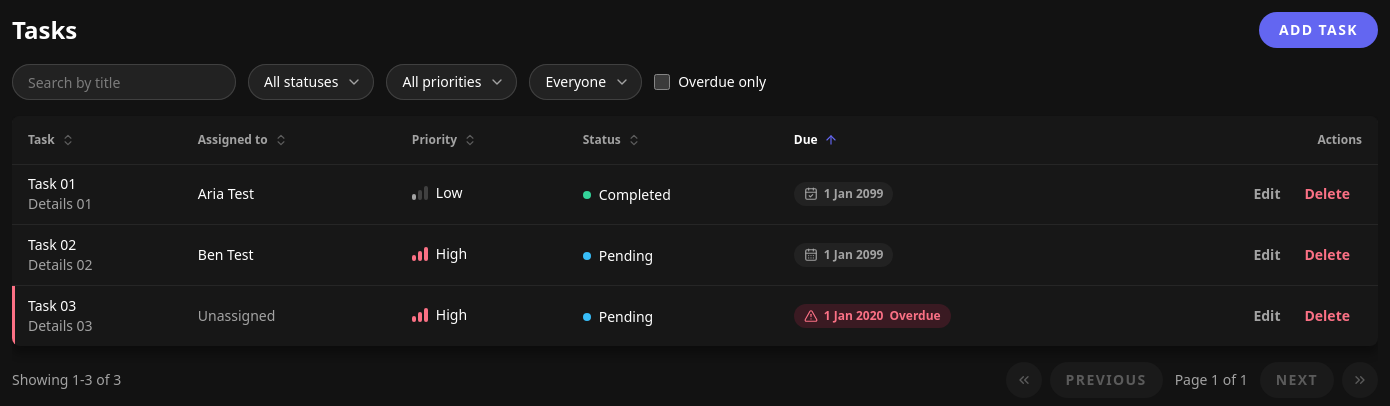
TasksPage: filters › offers a button that clears every filter at once, only while a filter is set
Expected: the text "Task 01" is shown, [28,174,76,193]
Expected: the button "Clear filters" is not shown
Type "task" into the search field named "Search tasks" at [124, 82], box [12,64,236,100]
Click the dropdown named "Filter by status" at [311, 82], box [248,64,374,100]
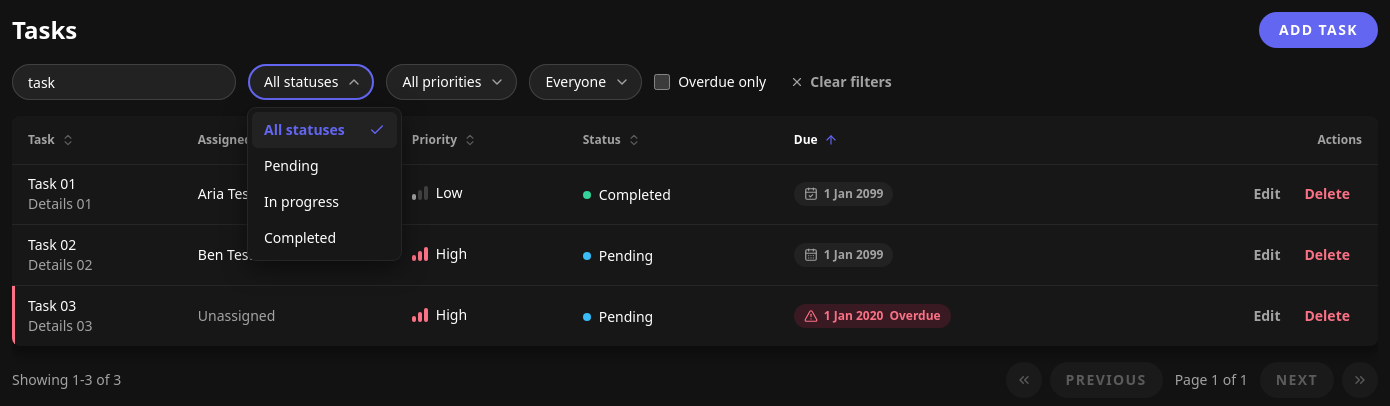
Click the option "Pending" at [291, 166], box [264,156,318,175]
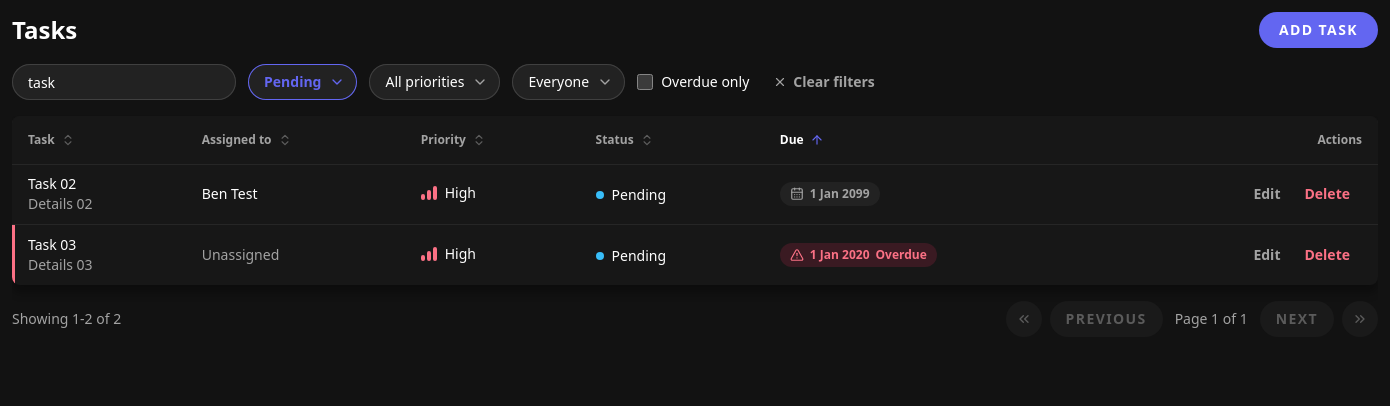
Click the dropdown named "Filter by priority" at [435, 82], box [370,64,500,100]
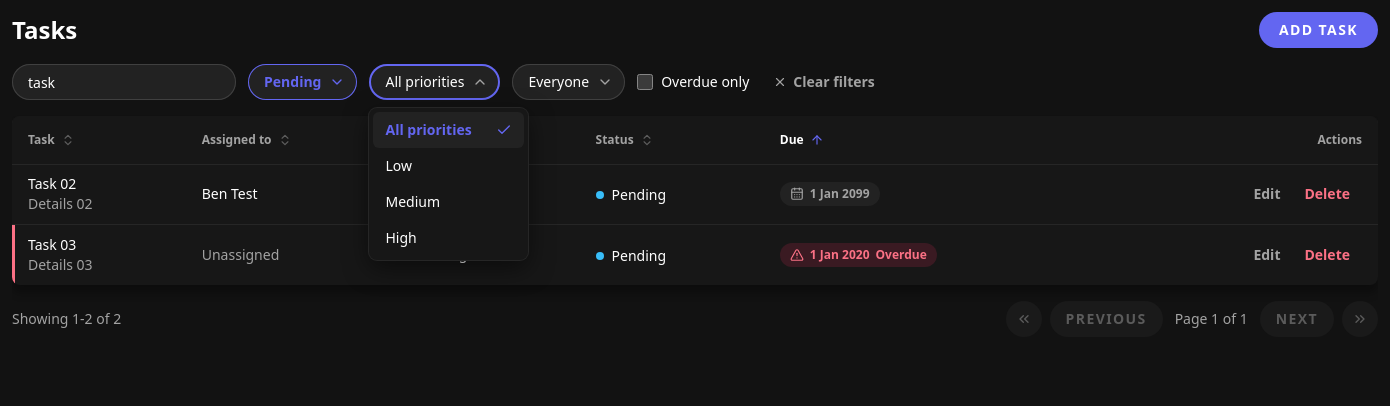
Click the option "High" at [401, 238], box [386,228,417,247]
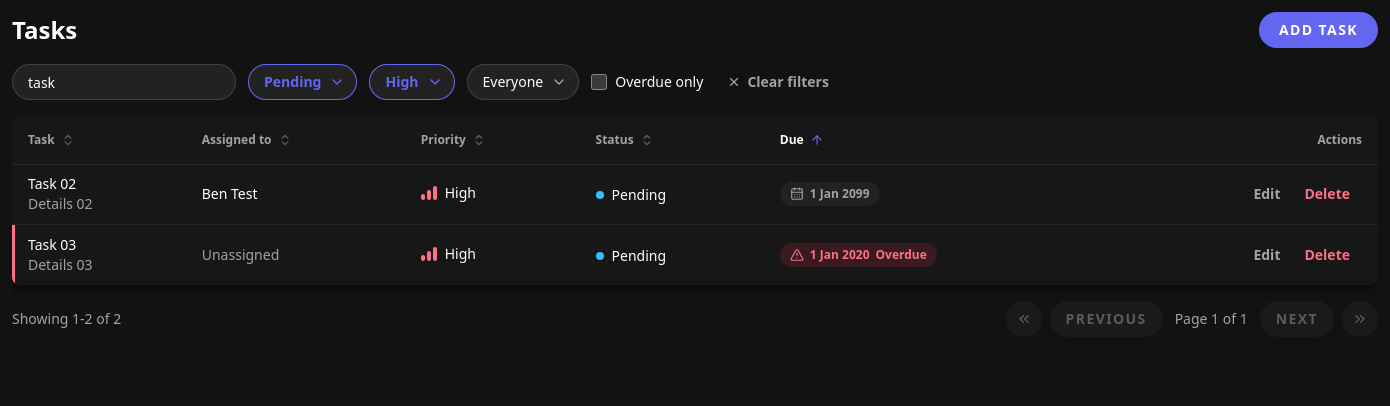
Click the checkbox labelled "Overdue only" at [599, 82], box [591,74,607,90]
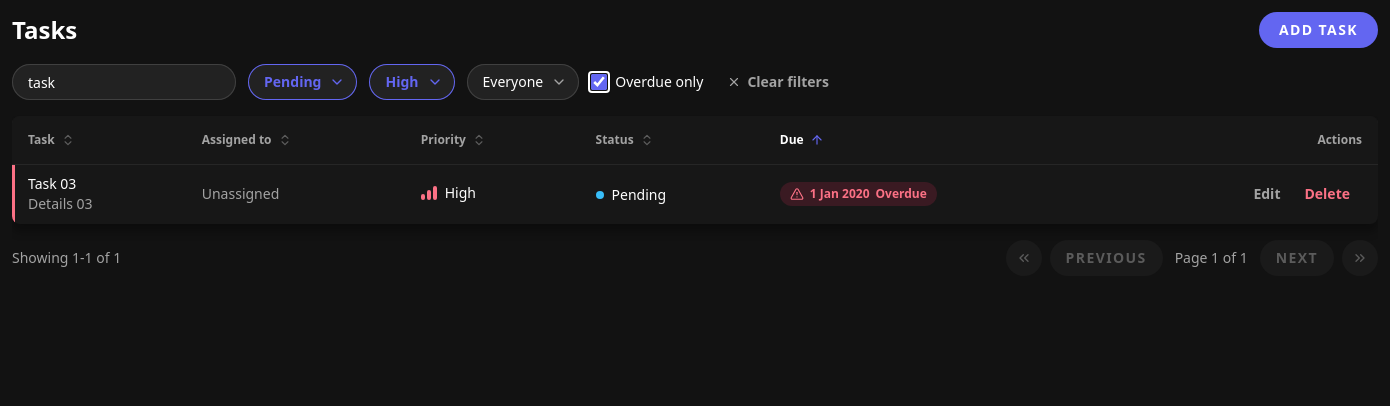
Click the button "Clear filters" at [778, 82], box [715,68,841,96]
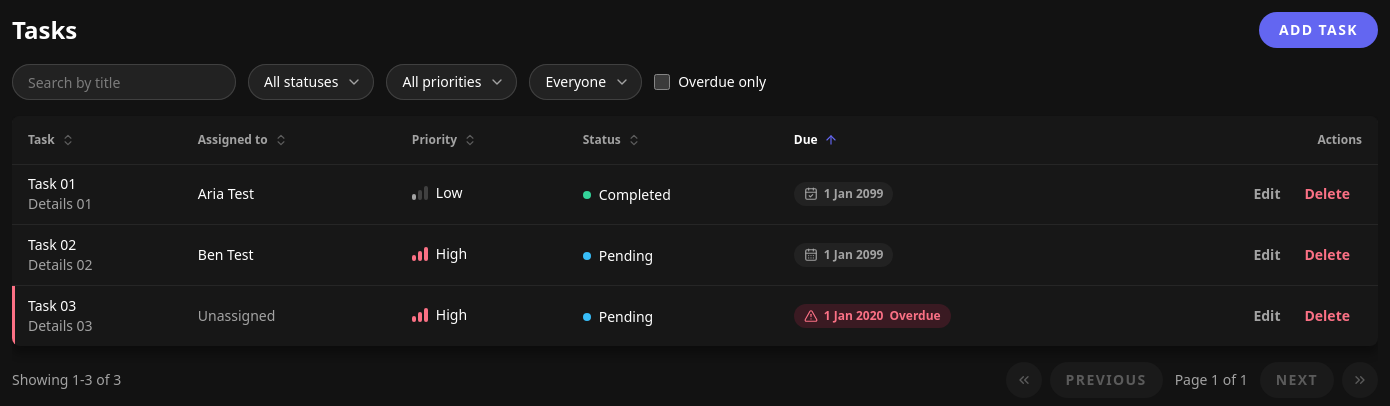
Expected: the search field named "Search tasks" is empty, [12,64,236,100]
Expected: the dropdown named "Filter by status" reads "All statuses", [248,64,374,100]
Expected: the dropdown named "Filter by priority" reads "All priorities", [386,64,518,100]
